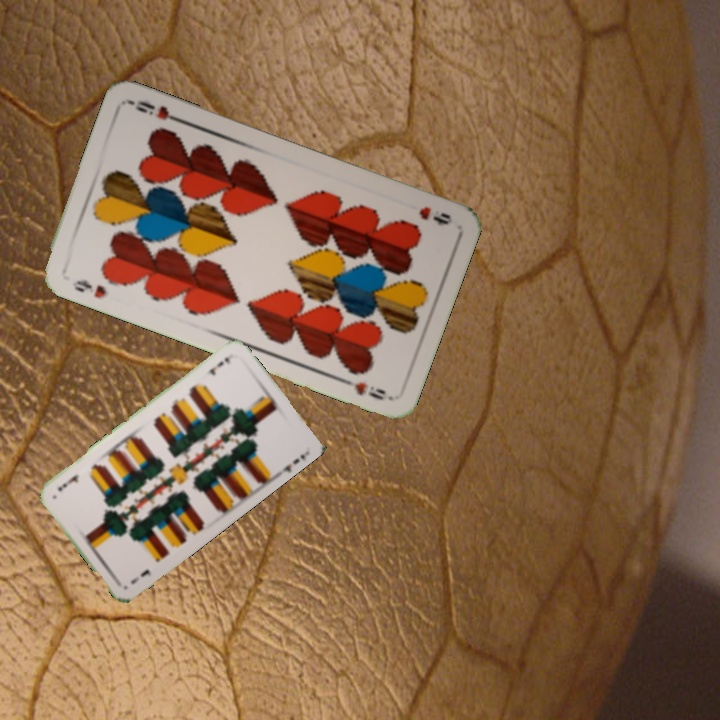E7: (202, 353, 233, 378), (127, 565, 154, 587)
H9: (68, 275, 109, 301), (415, 202, 455, 228)
